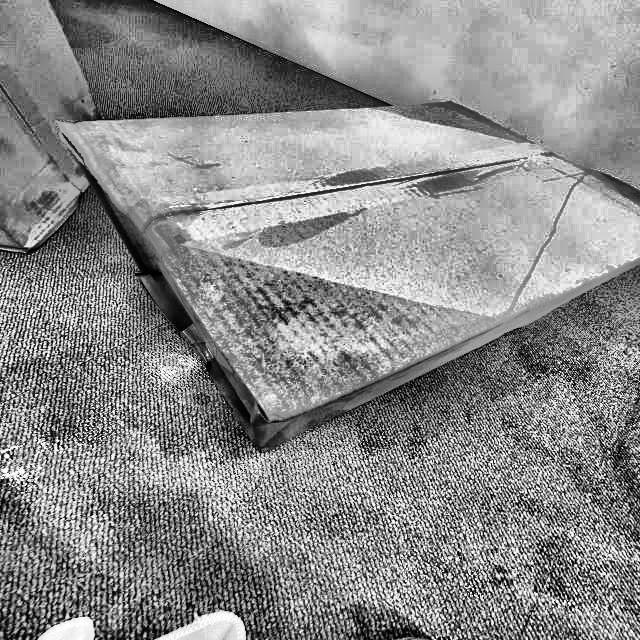box: (54, 91, 639, 462)
wet: (156, 243, 493, 425)
